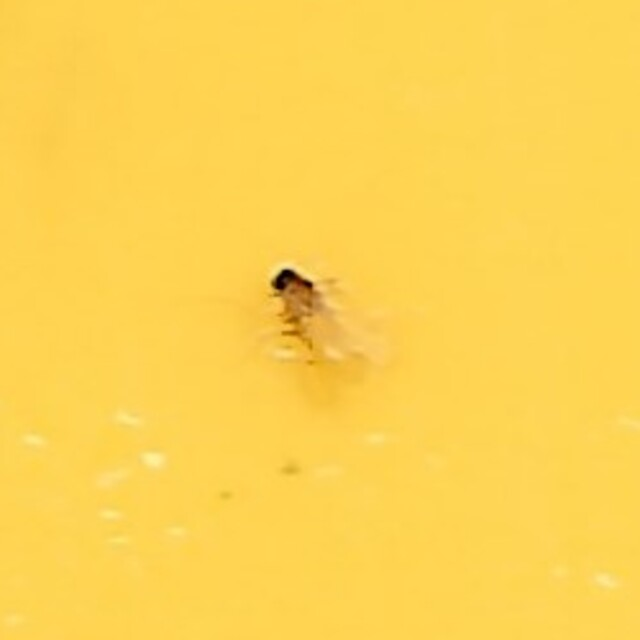Nematocera: (256, 245, 384, 395)
